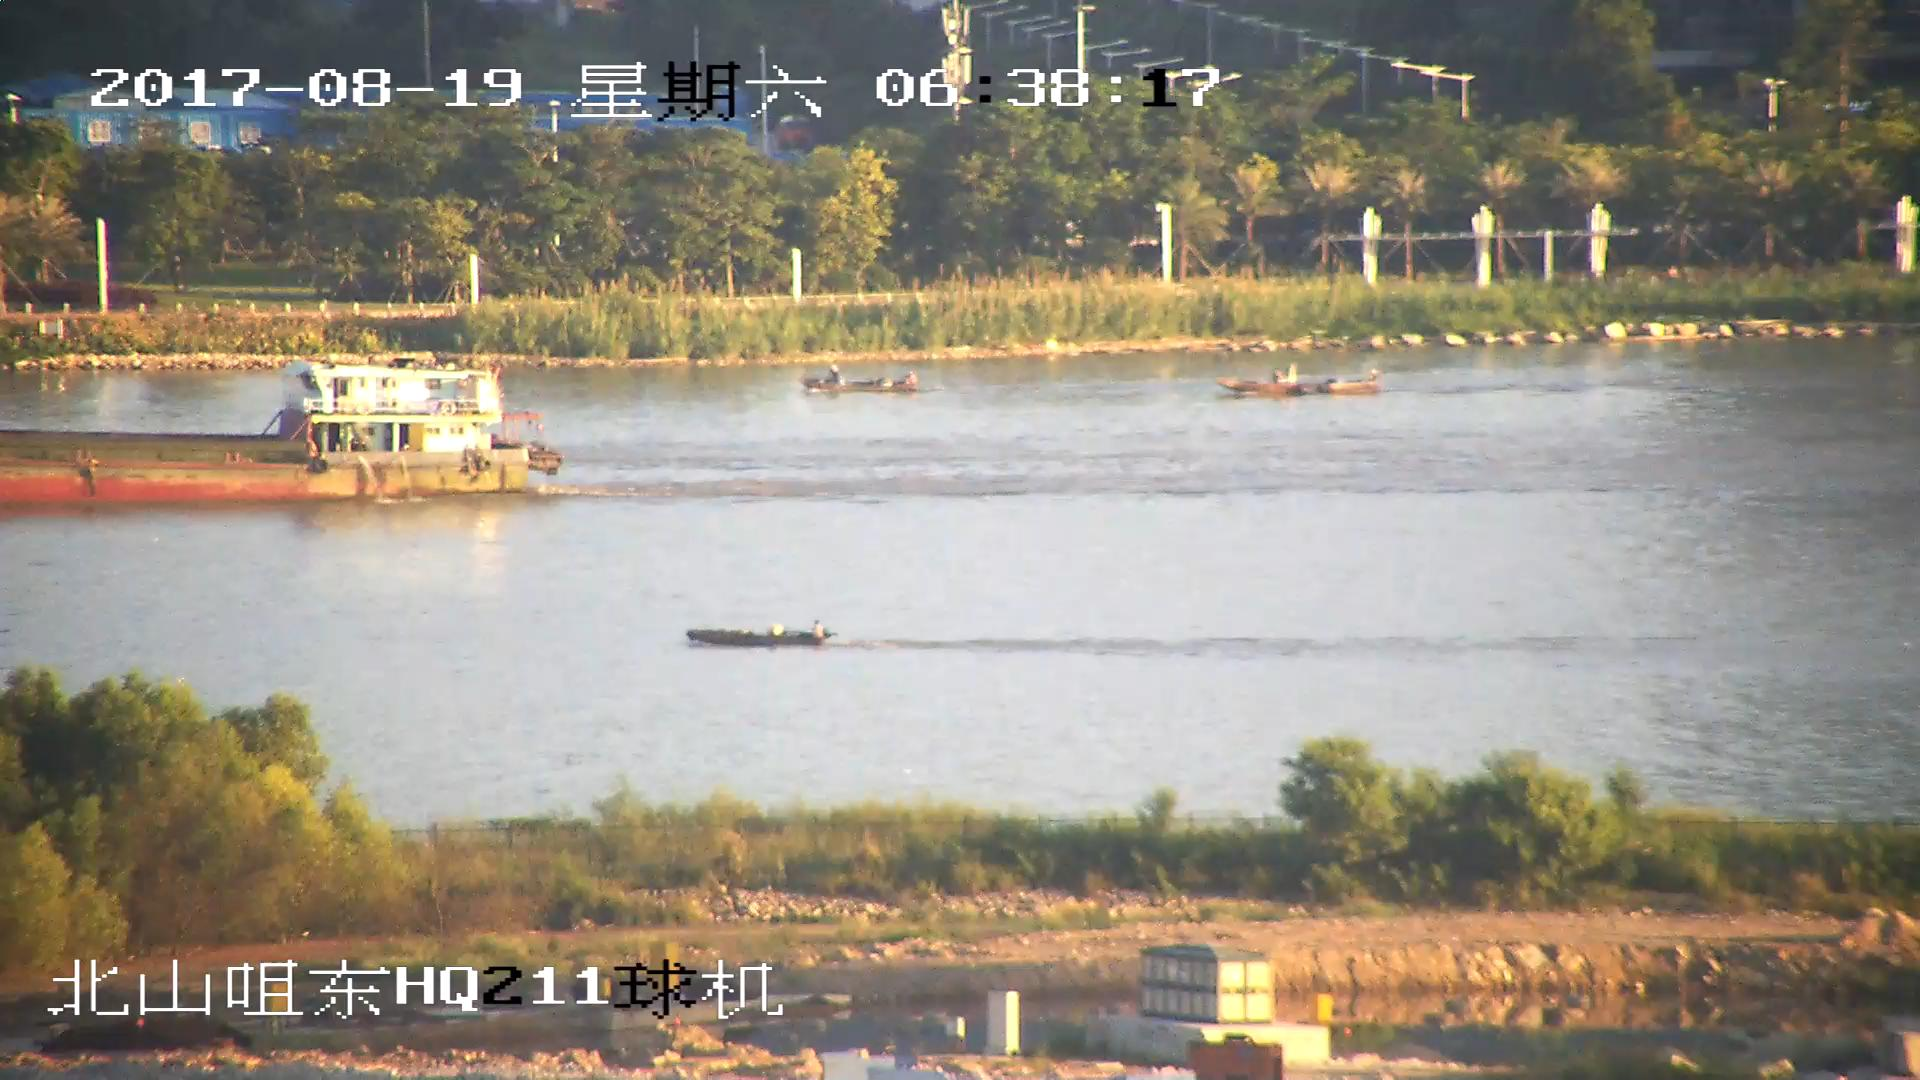bulk cargo carrier: (1, 366, 563, 495)
fishing boat: (1224, 366, 1383, 399), (687, 619, 827, 649), (809, 366, 920, 397)
